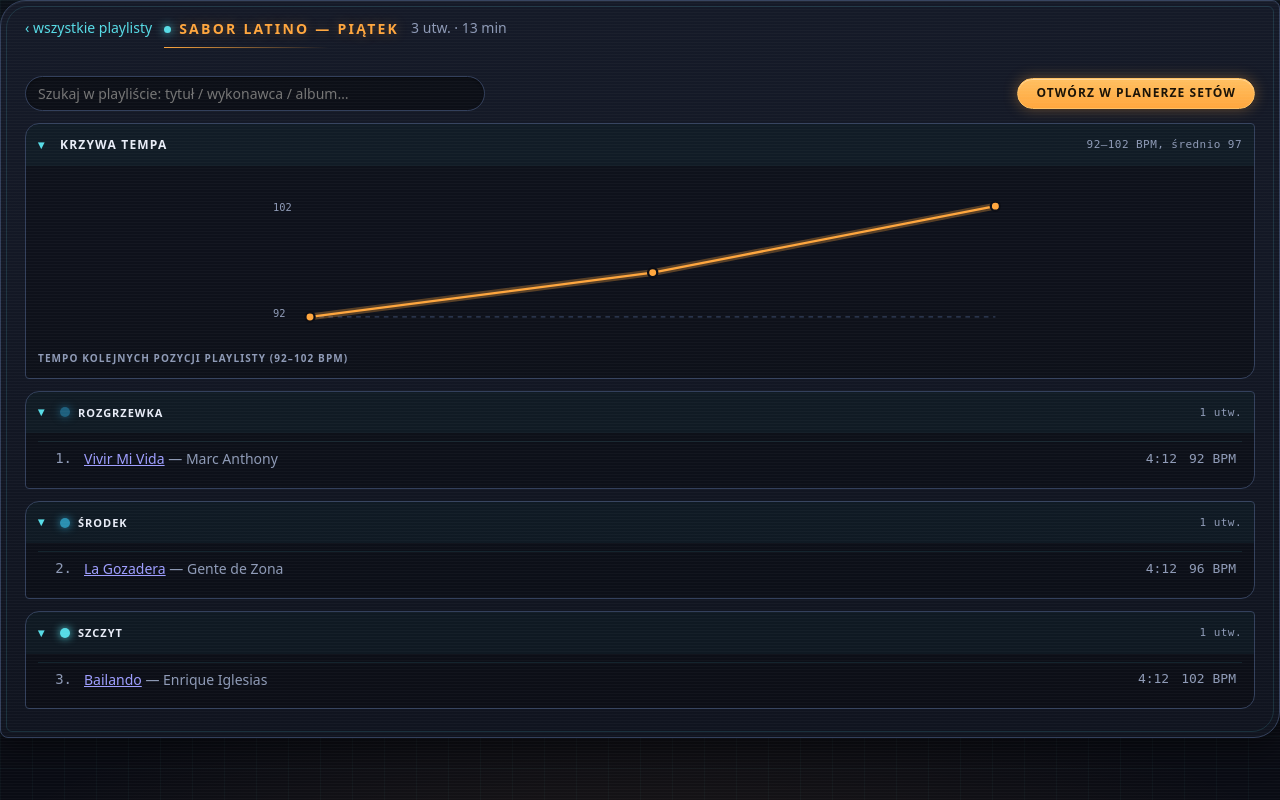
Test: PlaylistsView › gdy nic nie pasuje, mówi o tym zamiast pokazywać pustą playlistę
expect the element with test id "section-PEAK" is shown: met, box [25,611,1255,709]
Type "techno" into the search field with test id "track-search" at (255, 93), box [25,76,485,111]
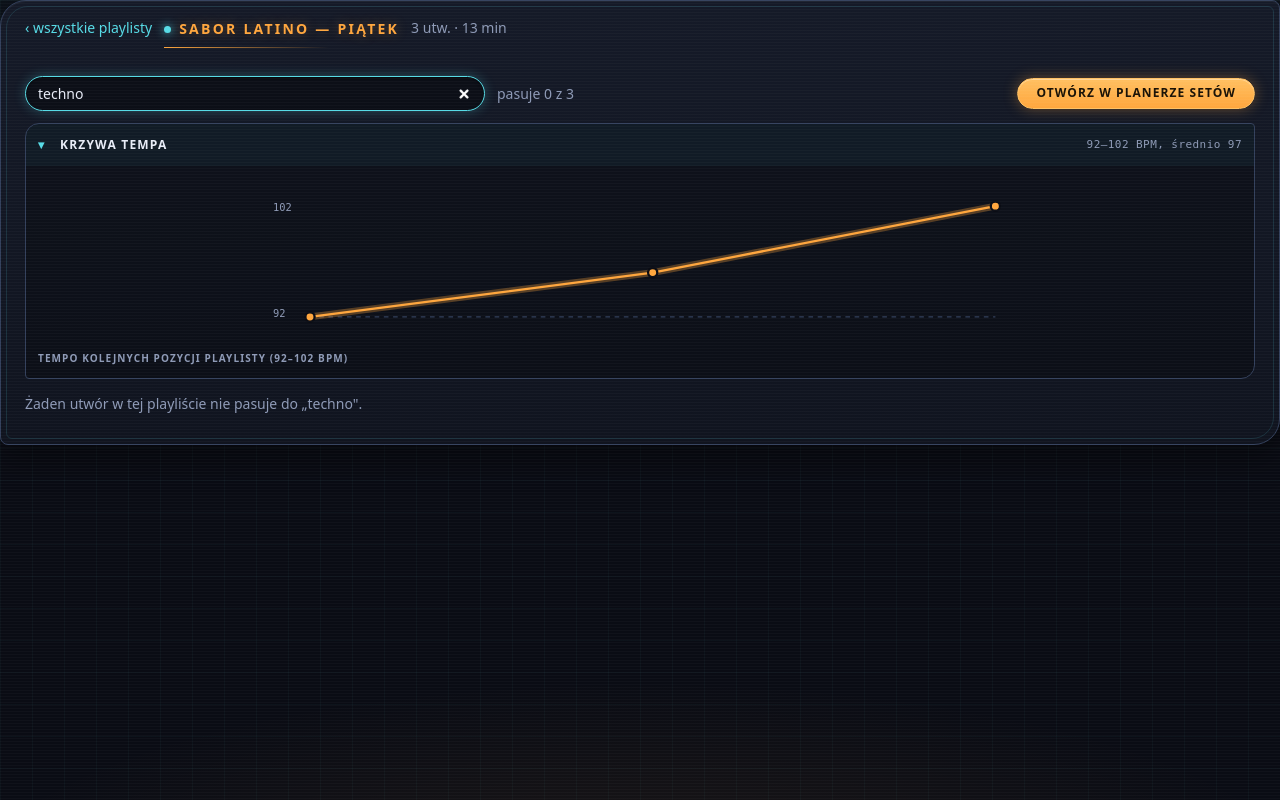
expect the text "Żaden utwór w tej playliście nie pasuje do „techno\"." is shown: met, box [25,394,362,413]
